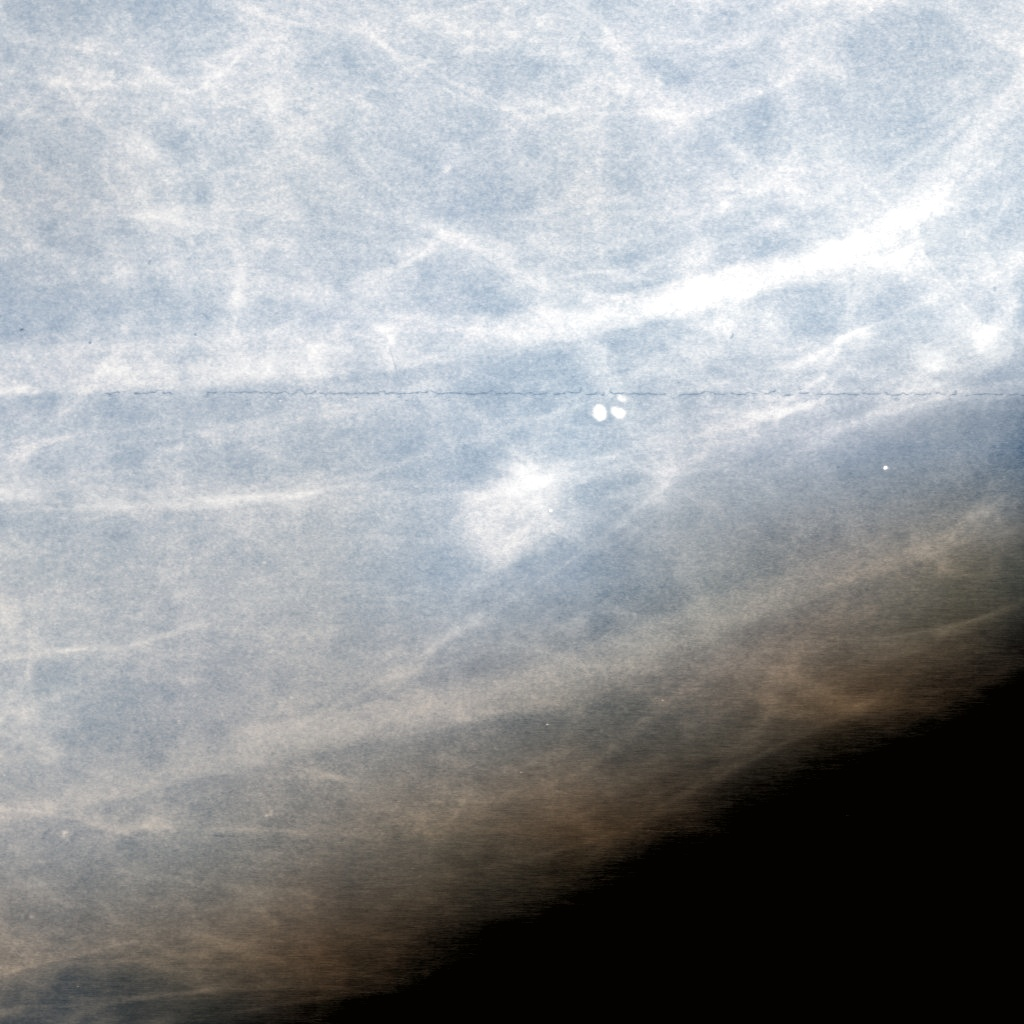tumor: (427, 419, 597, 605)
